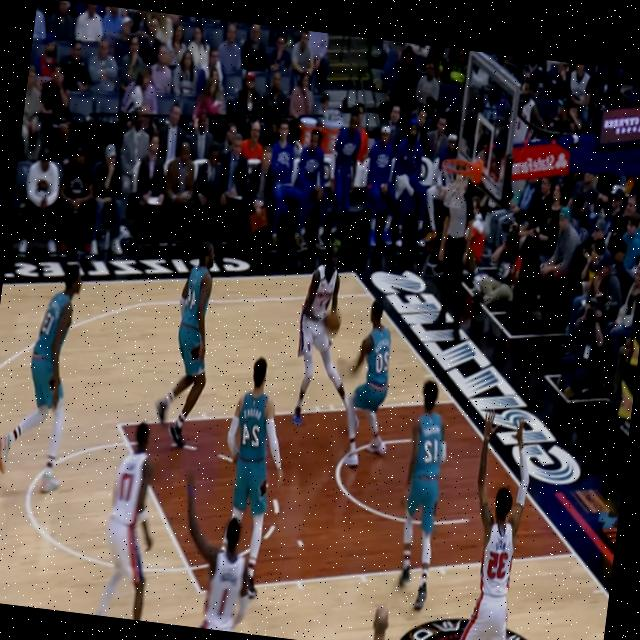no foul: (286, 224, 411, 466), (190, 339, 288, 634), (166, 500, 272, 634)
